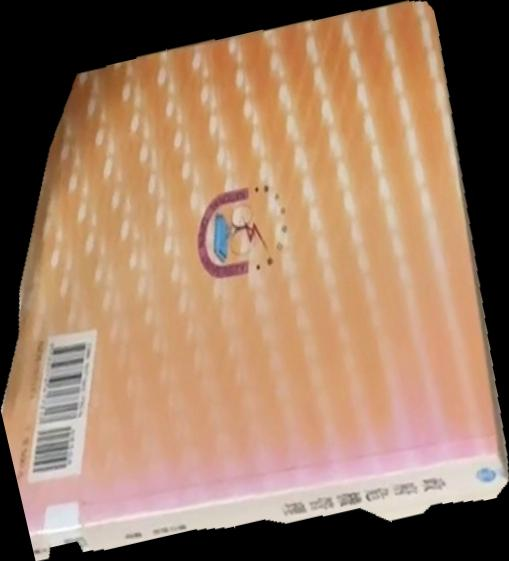flat: (1, 1, 509, 561)
